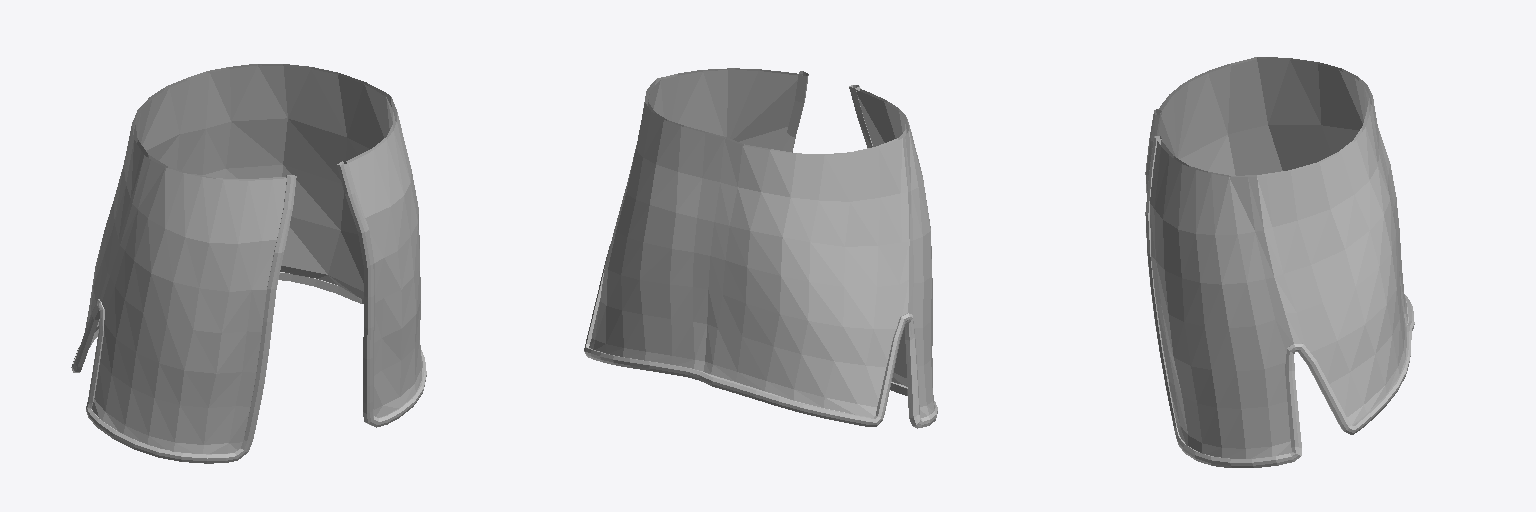
Rendered from bas_tunique.obj.
3 views of the same model, side by side, from view 1: azimuth 30°, elevation 25°; view 2: azimuth 150°, elevation 25°; view 3: azimuth 270°, elevation 25° (orthographic).
Parts seen in each view (by area): view 1: Soi_SimpleArmor.011_Plane.028, Soi_SimpleArmor.012_Plane.029; view 2: Soi_SimpleArmor.011_Plane.028, Soi_SimpleArmor.012_Plane.029; view 3: Soi_SimpleArmor.011_Plane.028, Soi_SimpleArmor.012_Plane.029.
Boxes of the visible parts, <box> form: Soi_SimpleArmor.011_Plane.028: <box>71,64,426,463</box>; Soi_SimpleArmor.012_Plane.029: <box>95,65,395,424</box>; Soi_SimpleArmor.011_Plane.028: <box>584,68,937,428</box>; Soi_SimpleArmor.012_Plane.029: <box>647,70,907,386</box>; Soi_SimpleArmor.011_Plane.028: <box>1145,57,1414,467</box>; Soi_SimpleArmor.012_Plane.029: <box>1158,59,1370,176</box>.
Bounding box in the file's own units: 0.4546 × 0.4099 × 0.329.